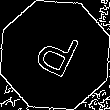P_SW: (27, 24, 83, 86)
